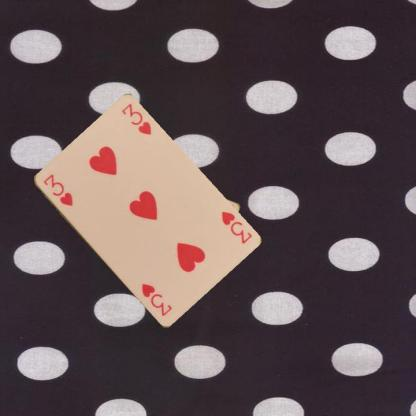3h: (218, 208, 253, 245), (40, 172, 74, 208)
